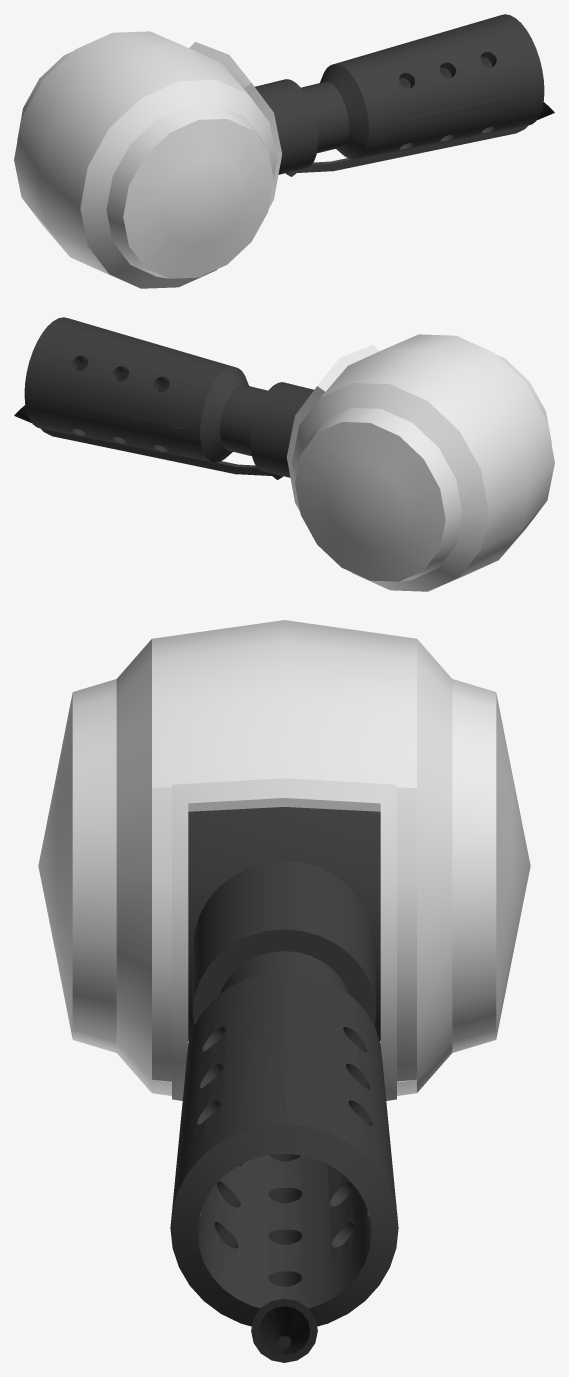
Rendered from SM_FlameThrower.fbx.
3 views of the same model, one above another, from view 1: azimuth 30°, elevation 25°; view 2: azimuth 150°, elevation 25°; view 3: azimuth 270°, elevation 25° (orthographic). The views are drawn at different scales.
Parts seen in each view (by area): view 1: FlameThrower; view 2: FlameThrower; view 3: FlameThrower.
Part boxes in pixels (box(x1,y1,x2,y2)): FlameThrower: box(14, 14, 554, 288); FlameThrower: box(14, 317, 554, 591); FlameThrower: box(38, 620, 530, 1362).
Bounding box in the file's own units: 128 × 53.17 × 53.17.
